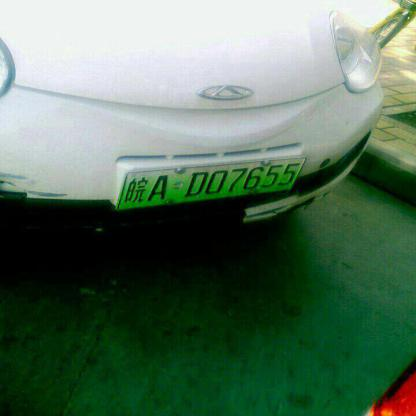lp: (116, 157, 306, 209)
